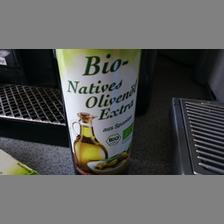Oel: (54, 47, 142, 172)
